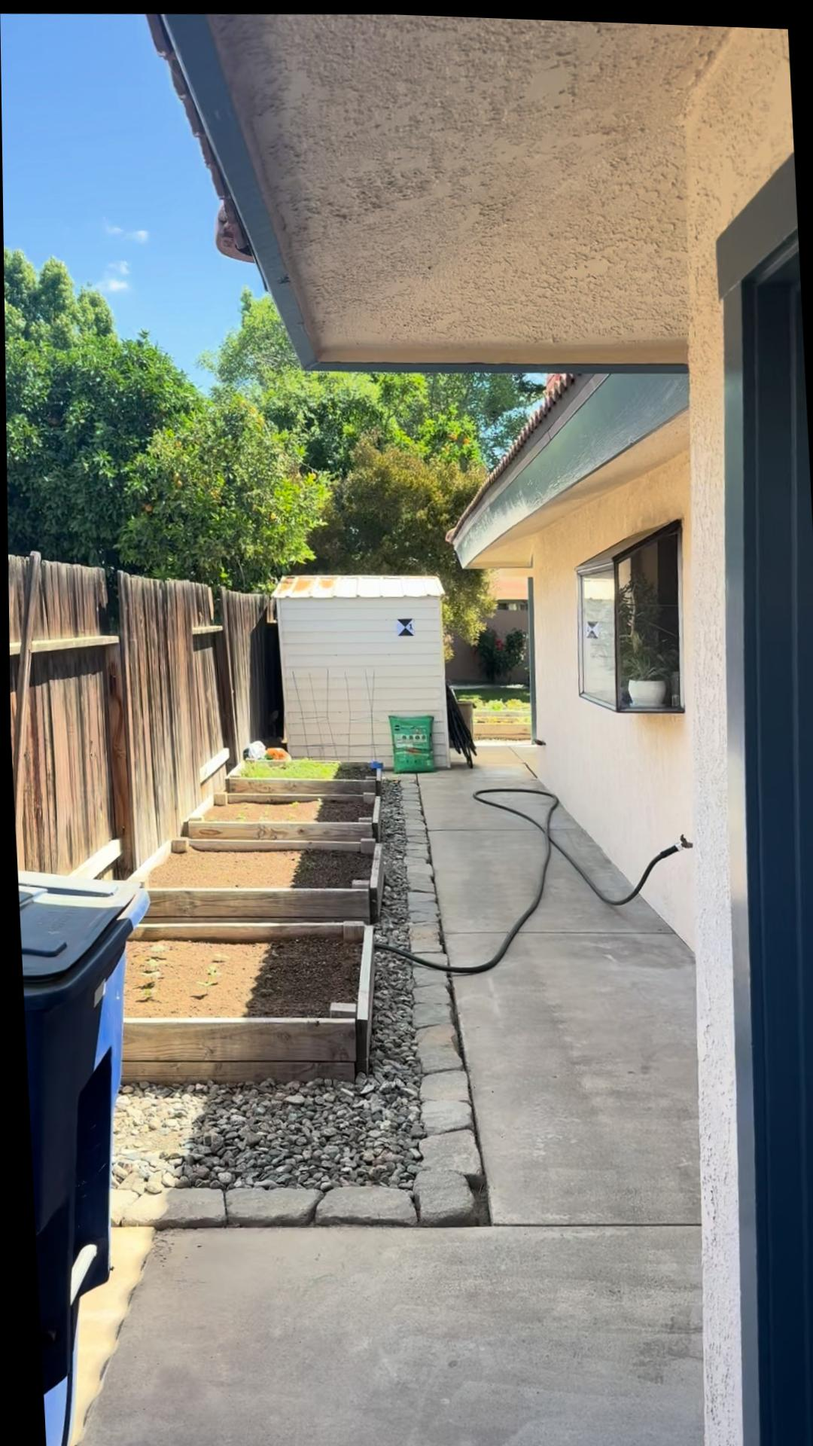target1: (394, 615, 418, 639)
